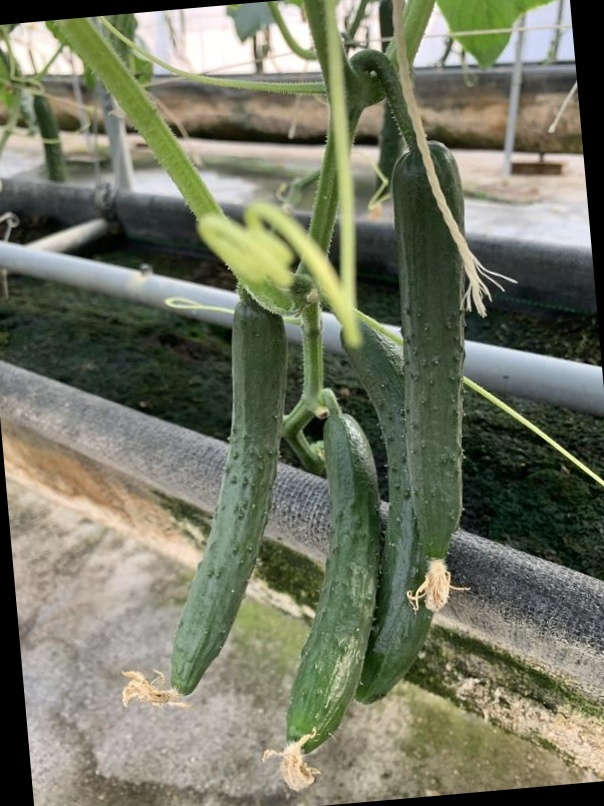mature: (161, 298, 292, 693), (389, 132, 470, 575), (279, 409, 380, 754)
